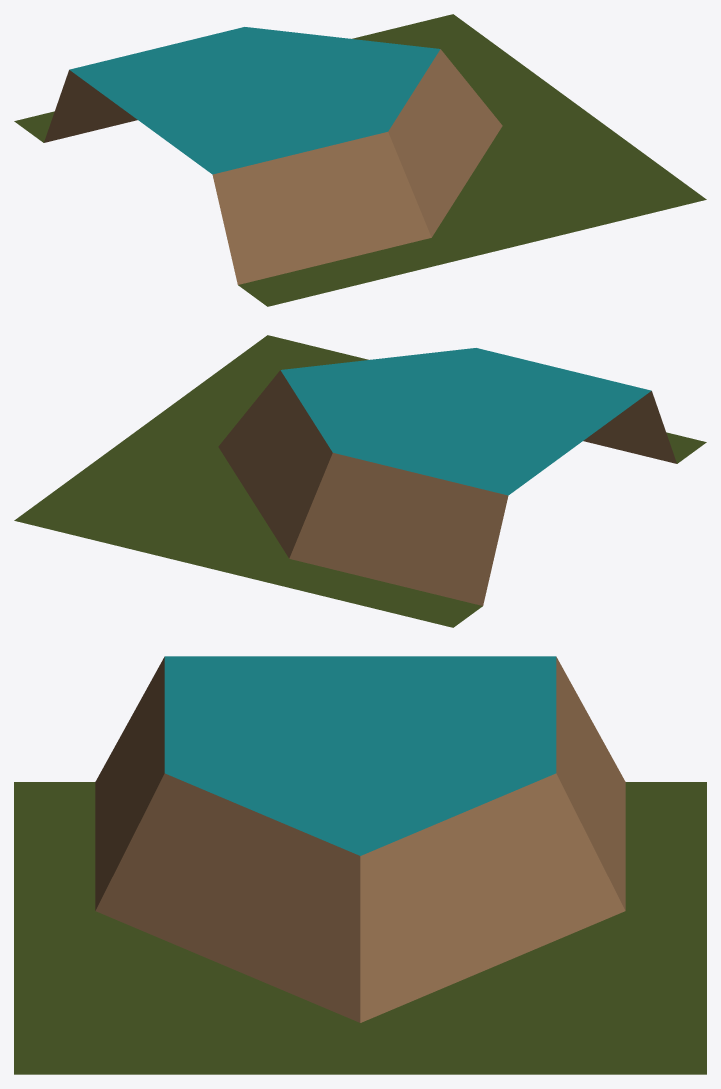
File: TB_Env_Mountain_N.FBX
3 renders of one model, top to bottom at view 1: azimuth 30°, elevation 25°; view 2: azimuth 150°, elevation 25°; view 3: azimuth 270°, elevation 25°, orthographic. The views are drawn at different scales.
Visible parts, largest first — view 1: TB_Env_Mountain_N; view 2: TB_Env_Mountain_N; view 3: TB_Env_Mountain_N.
Part boxes in pixels (bbox=[...]): TB_Env_Mountain_N: bbox=[14, 14, 706, 306]; TB_Env_Mountain_N: bbox=[14, 335, 706, 627]; TB_Env_Mountain_N: bbox=[14, 656, 706, 1074].
Bounding box in the file's own units: 10 × 2 × 10.
Materials: 1 (1 with a texture image).
